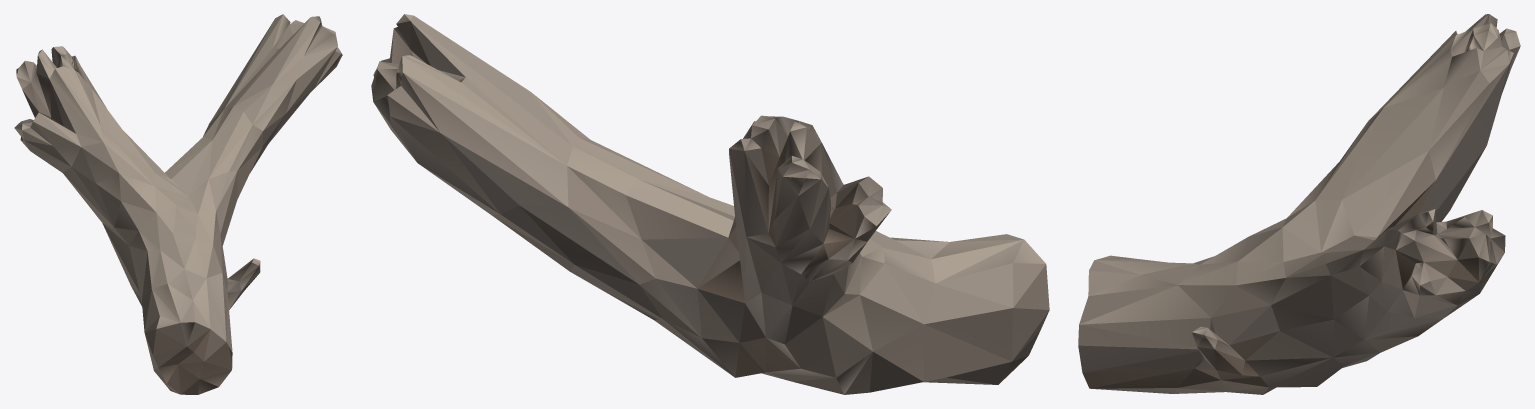
File: driftwood-fork.glb
3 renders of one model, left to right at view 1: azimuth 30°, elevation 25°; view 2: azimuth 150°, elevation 25°; view 3: azimuth 270°, elevation 25°, orthographic. The views are drawn at different scales.
Visible parts, largest first — view 1: driftwood-fork; view 2: driftwood-fork; view 3: driftwood-fork.
Boxes of the visible parts, x1,y1,x2,y2 form: driftwood-fork: [14, 14, 342, 394]; driftwood-fork: [371, 14, 1049, 394]; driftwood-fork: [1078, 14, 1520, 394].
Size of the model in its own units: 1.86 by 1.41 by 1.58.
